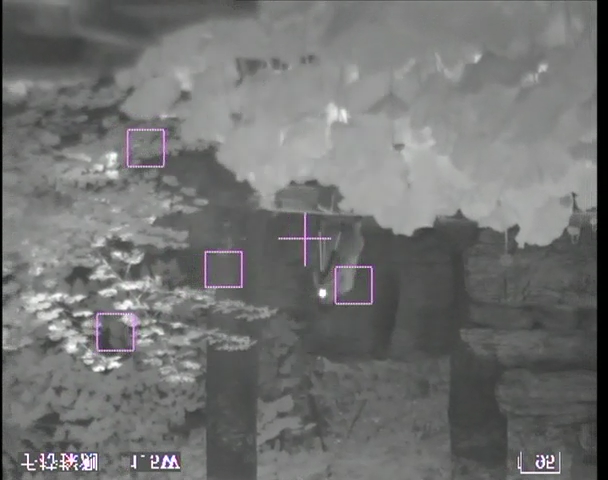my: (317, 287, 329, 299)
